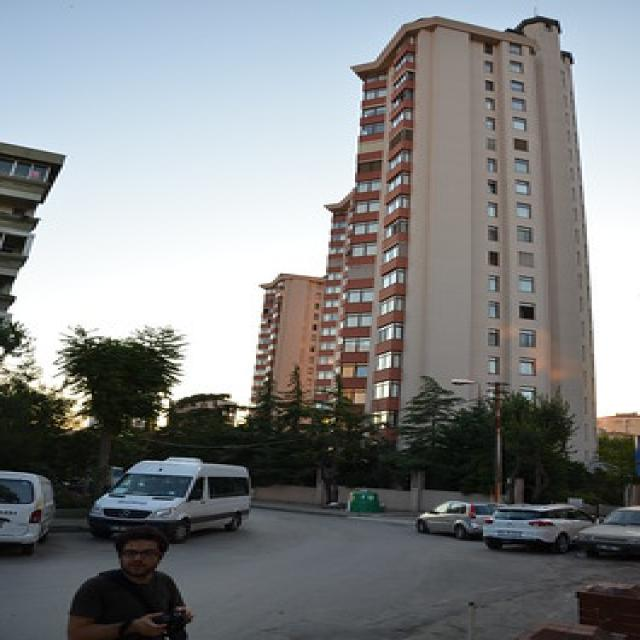Normal_building: (315, 9, 593, 498), (238, 271, 320, 444)
